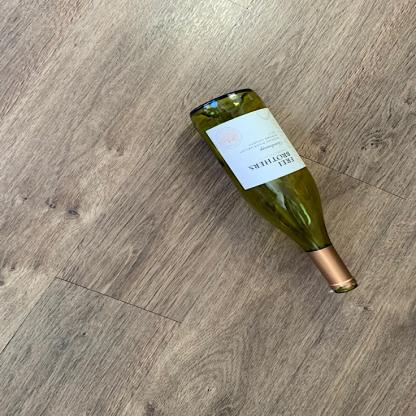trash: (191, 87, 360, 296)
